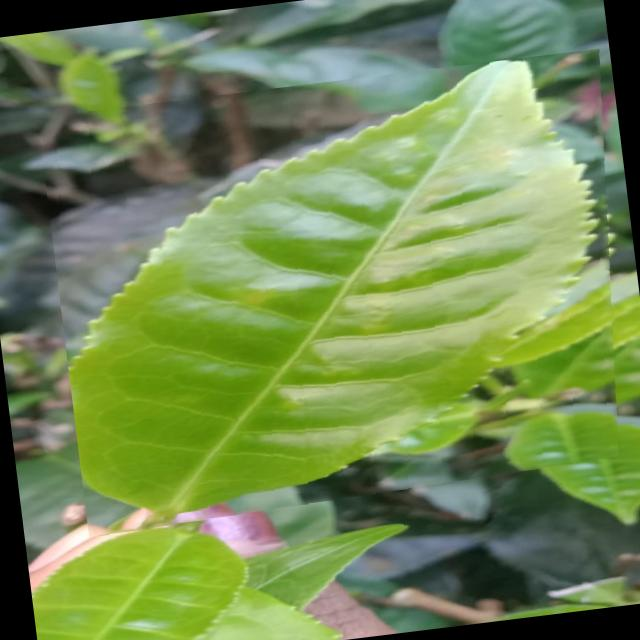Category B(2-4 days): (37, 48, 640, 538)
